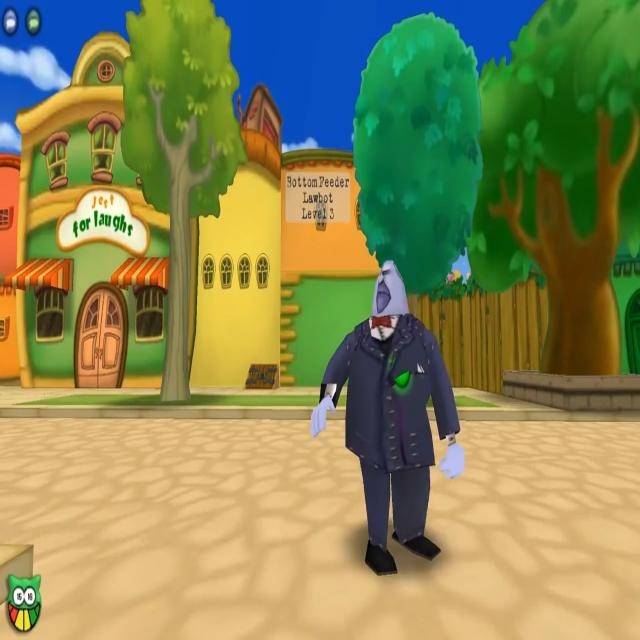bottomfeeder: (281, 169, 464, 582)
